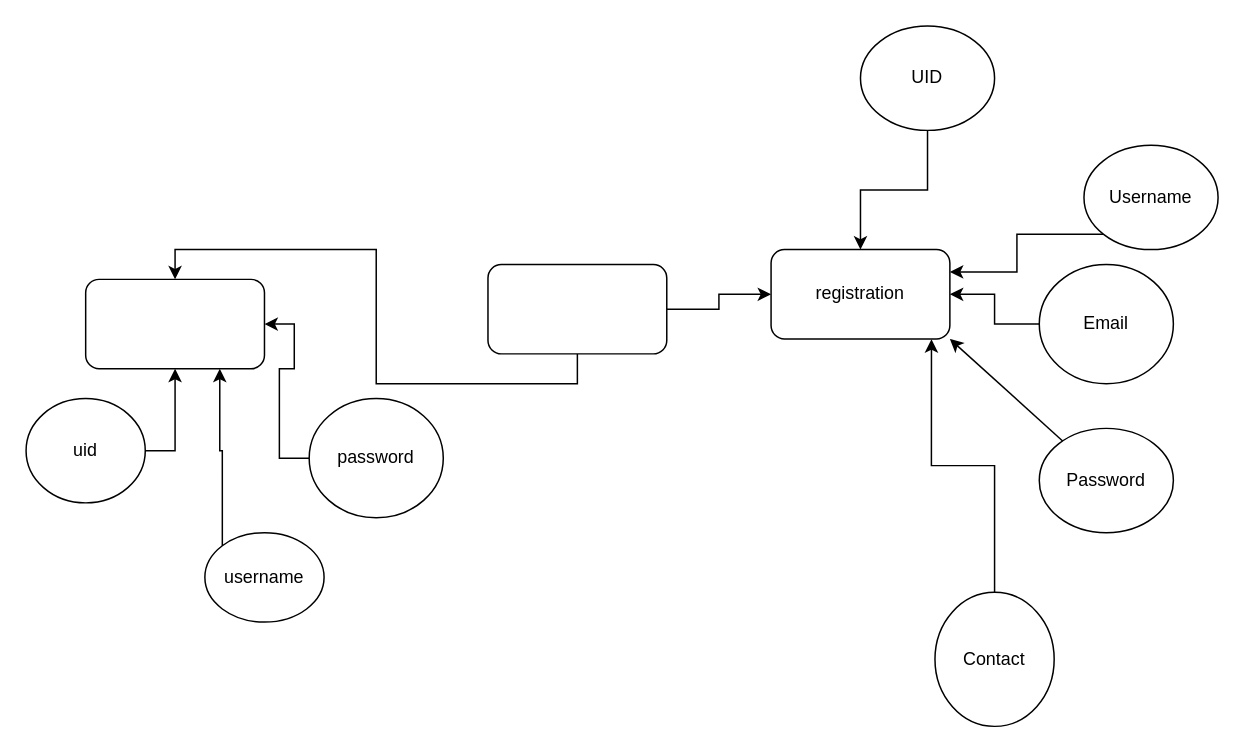
The diagram is 1244 pixels wide and 752 high, and some of its shapes have lost their labels. The shapes that lost their labels are listed below. From the top down, each one's centre as x and y in pixels, then its label:
At point (174, 323): "login".
At point (576, 308): "User".
